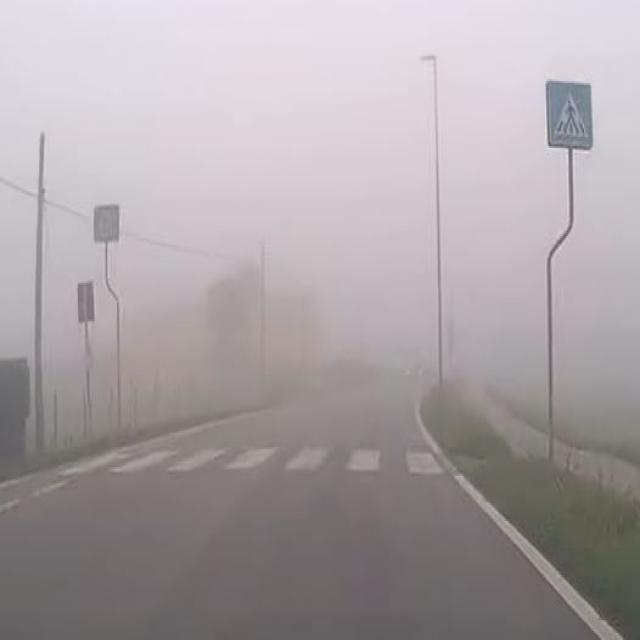Pedestrian crosswalk: (53, 433, 458, 482), (546, 75, 596, 149), (94, 202, 120, 242)
